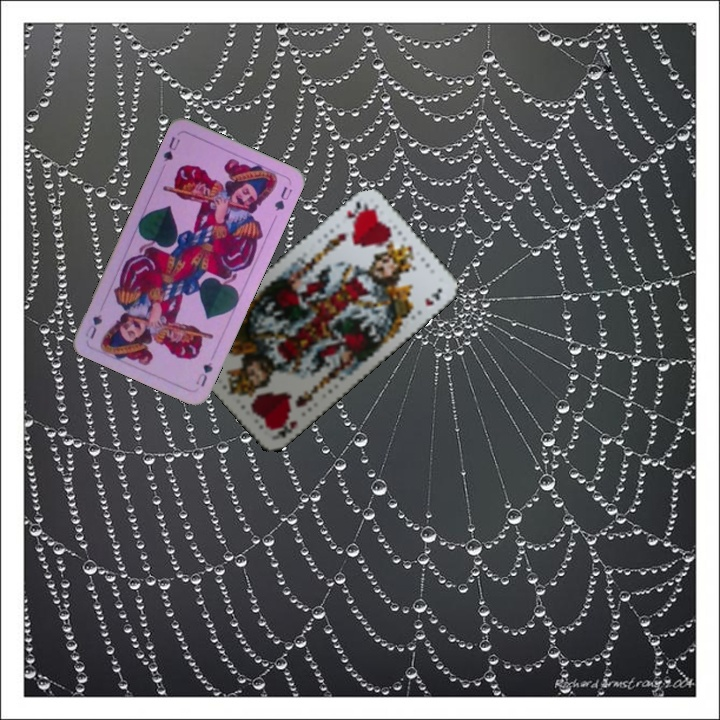GU: (159, 133, 182, 164), (192, 358, 215, 389)
HK: (268, 417, 300, 441), (342, 197, 370, 221)
